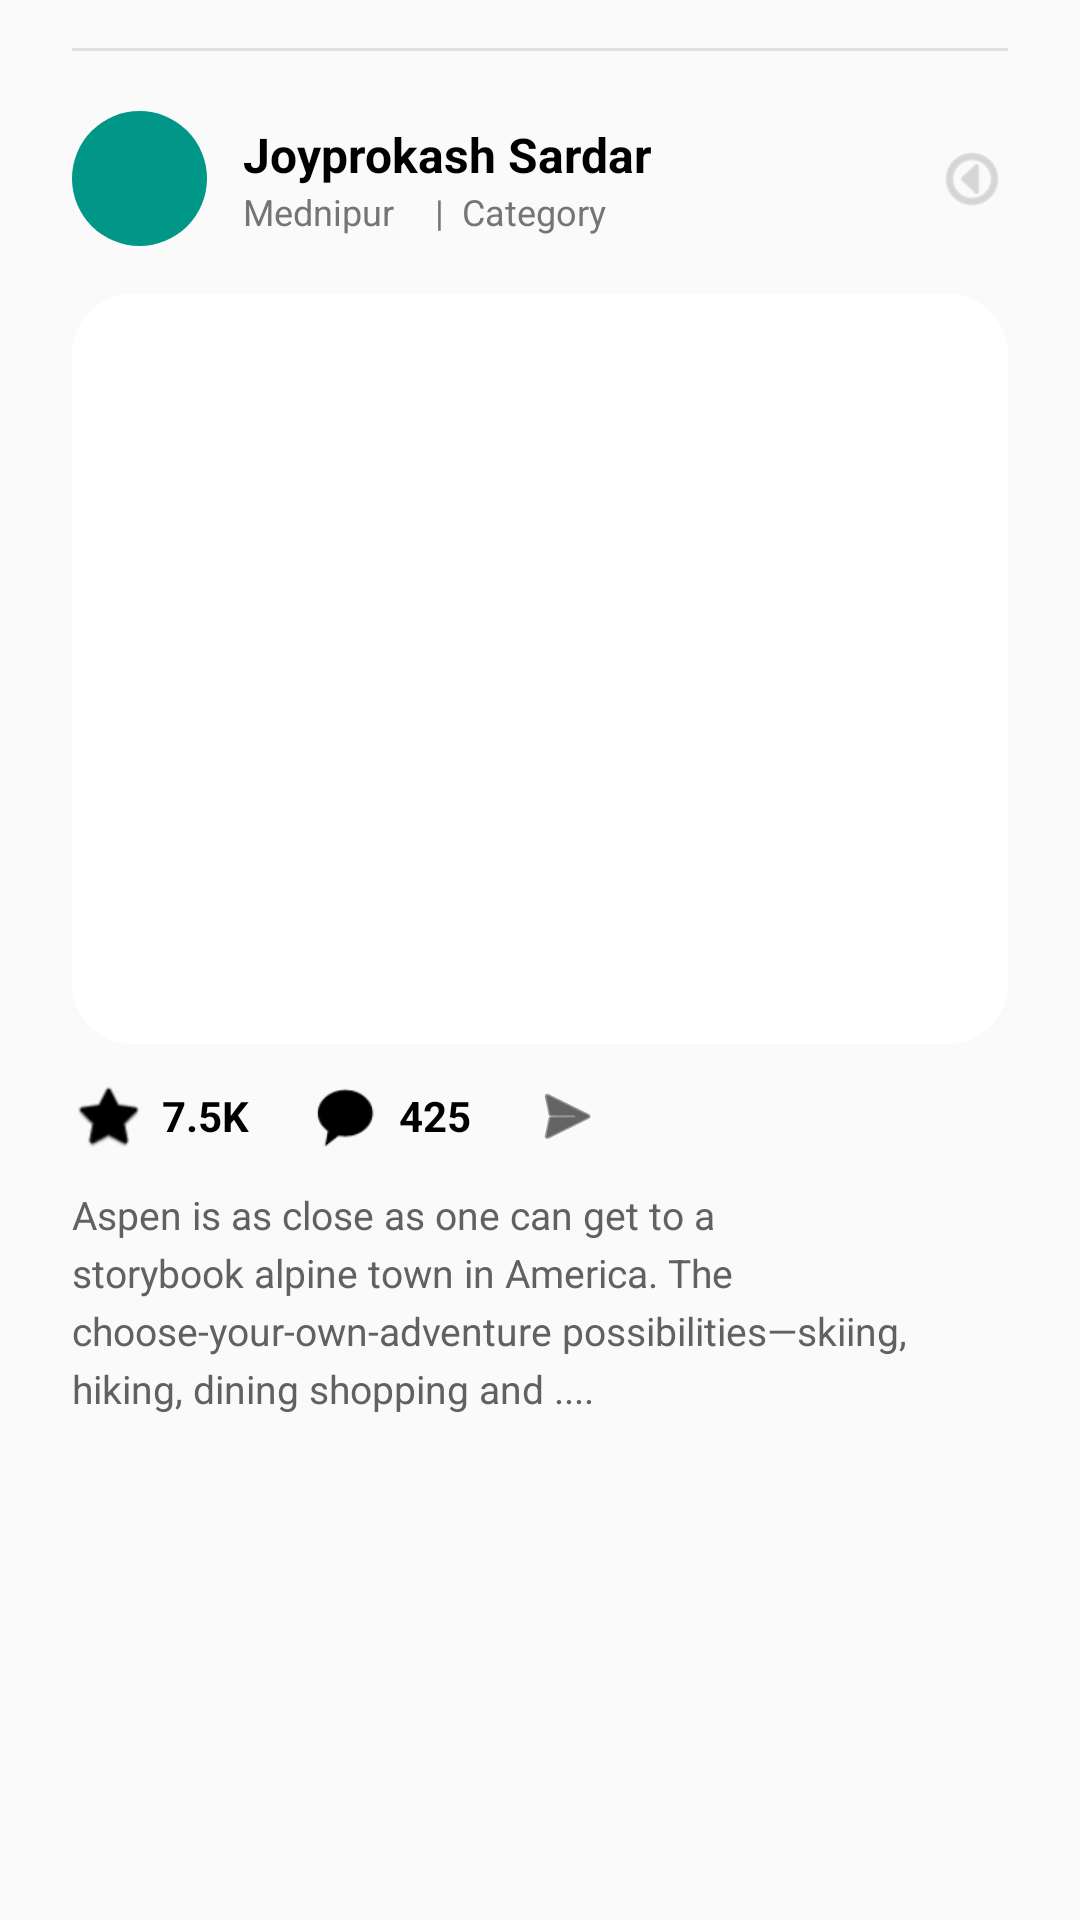

Icon click points for this 1080px x 1920px phone screenshot, format (x,y):
send: (567,1116)
sym action chat: (345,1118)
